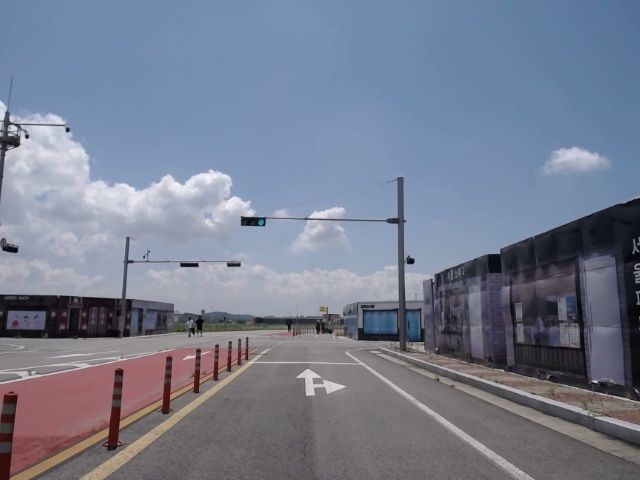green_3: (241, 216, 267, 226)
